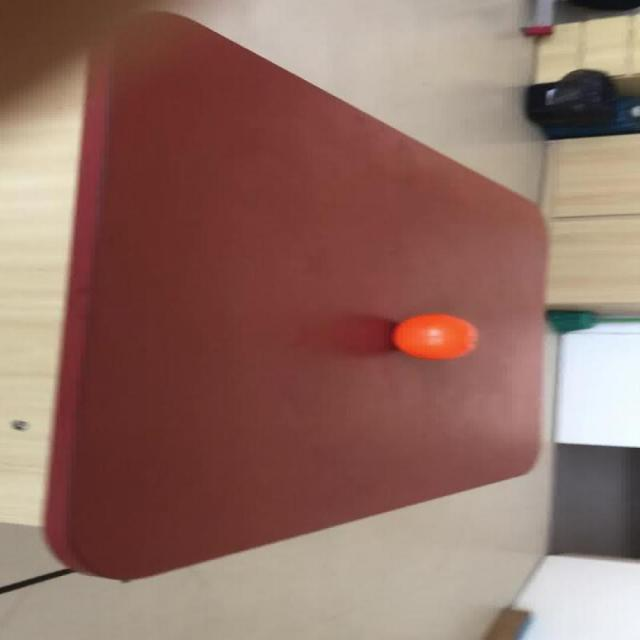Orange: (389, 313, 478, 360)
